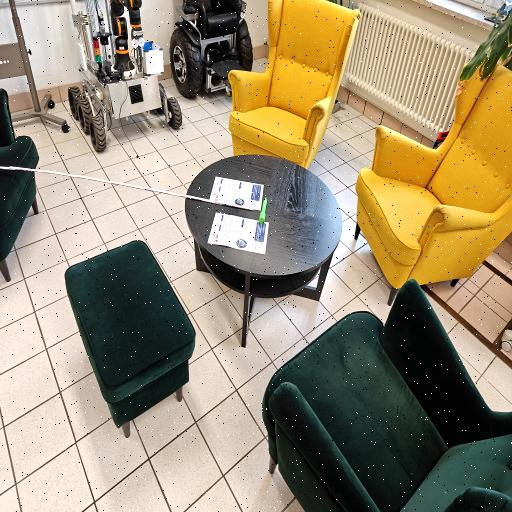Probe-Detection: (259, 197, 267, 224)
